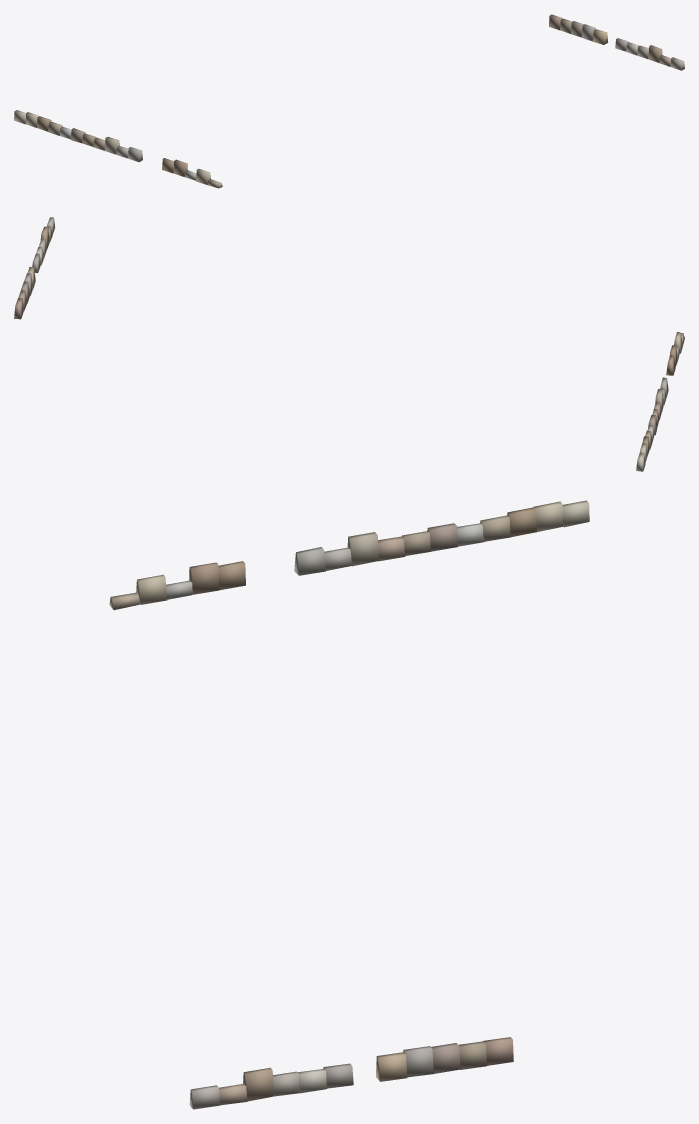
File: farm_33_39_far.glb
3 renders of one model, top to bottom at view 1: azimuth 30°, elevation 25°; view 2: azimuth 150°, elevation 25°; view 3: azimuth 270°, elevation 25°, orthographic. The views are drawn at different scales.
Parts seen in each view (by area): view 1: geometry_0; view 2: geometry_0; view 3: geometry_0.
Boxes of the visible parts, x1,y1,x2,y2 form: geometry_0: (14, 14, 684, 188); geometry_0: (14, 217, 684, 471); geometry_0: (109, 500, 589, 1109).
Size of the model in its own units: 71.77 by 3.59 by 26.06.
